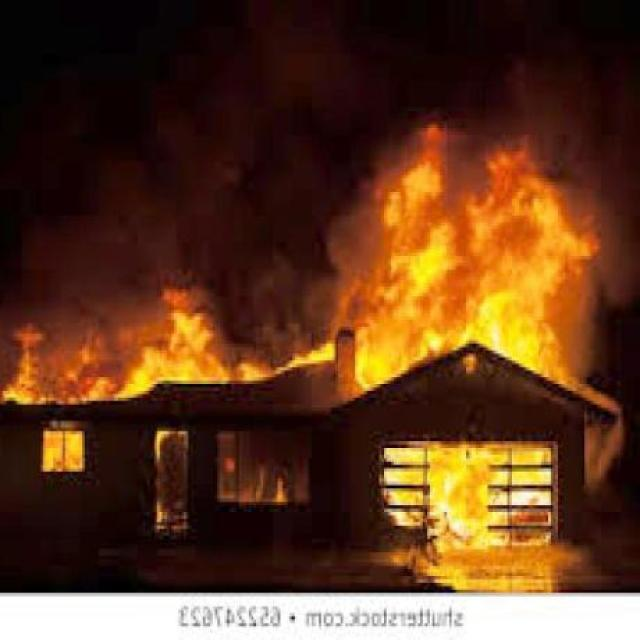Fire: (354, 158, 574, 394), (366, 423, 567, 590), (1, 285, 238, 400), (44, 428, 122, 494)
Smoke: (8, 21, 334, 278), (373, 29, 640, 150)
